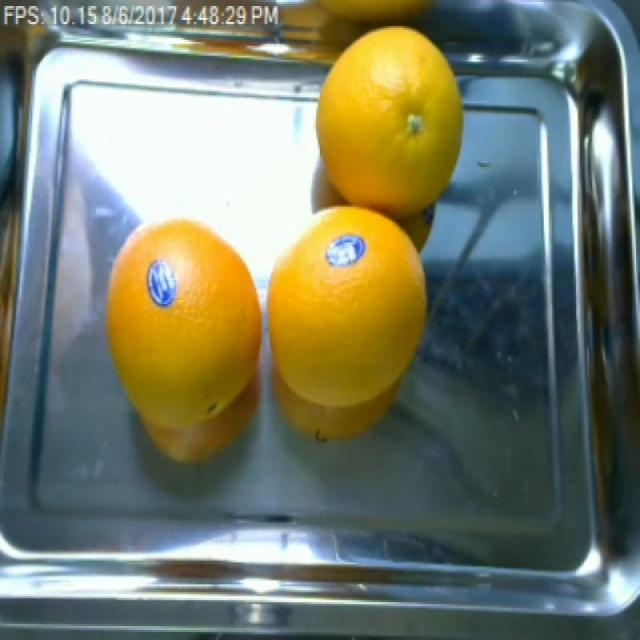Fruit: (300, 8, 467, 223)
